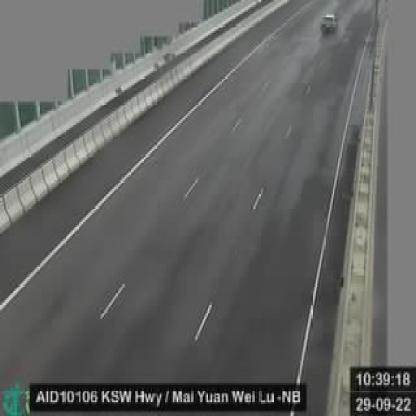Car: (320, 12, 340, 37)
